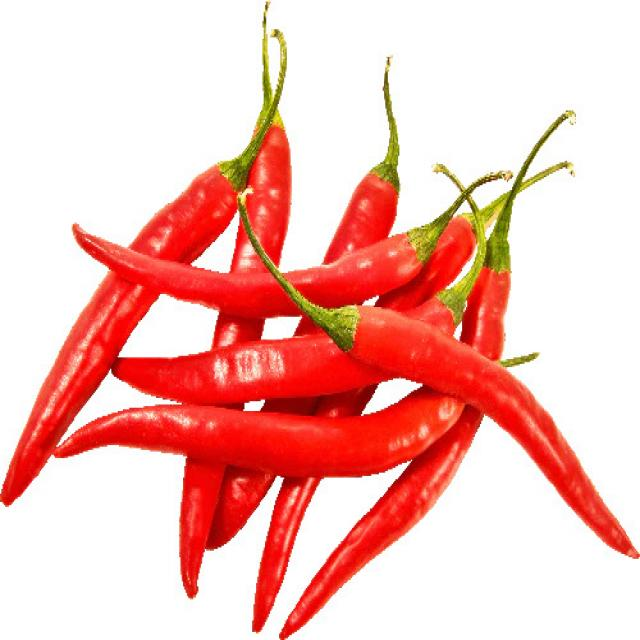red chili: (238, 194, 640, 558), (297, 406, 484, 626), (0, 273, 156, 506), (131, 34, 287, 262), (284, 173, 511, 306), (73, 224, 301, 318), (462, 128, 552, 360), (179, 458, 225, 599), (248, 117, 292, 264), (212, 314, 265, 349), (230, 224, 264, 272)
